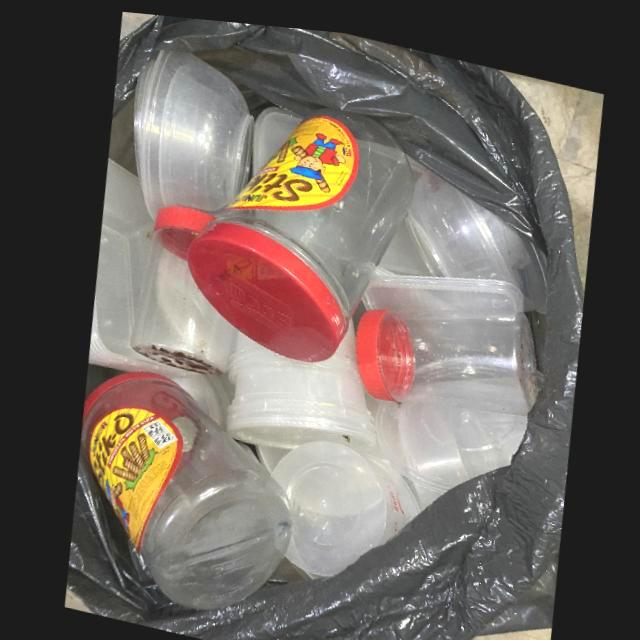plastic_container: (185, 102, 414, 356), (76, 368, 288, 606), (85, 155, 197, 376), (133, 45, 254, 218), (267, 434, 416, 574), (353, 301, 534, 405), (126, 202, 230, 371)
